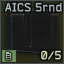Remington M700 .308 AICS 5-round magazine: (0, 0, 64, 64)
